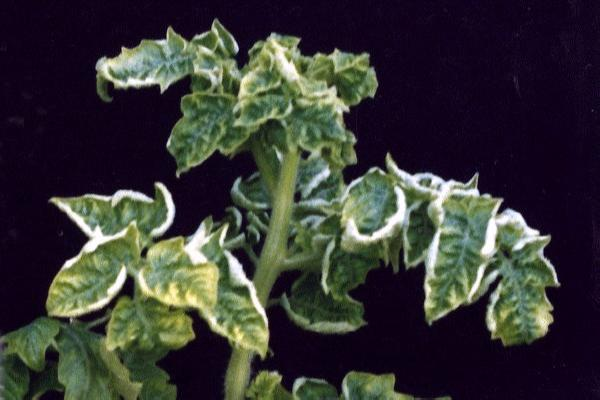Tomato leaf yellow virus: (420, 185, 500, 343), (48, 225, 148, 328), (50, 173, 183, 249), (486, 225, 565, 351), (96, 38, 228, 110), (161, 83, 241, 181), (137, 236, 235, 315), (337, 161, 409, 266)
